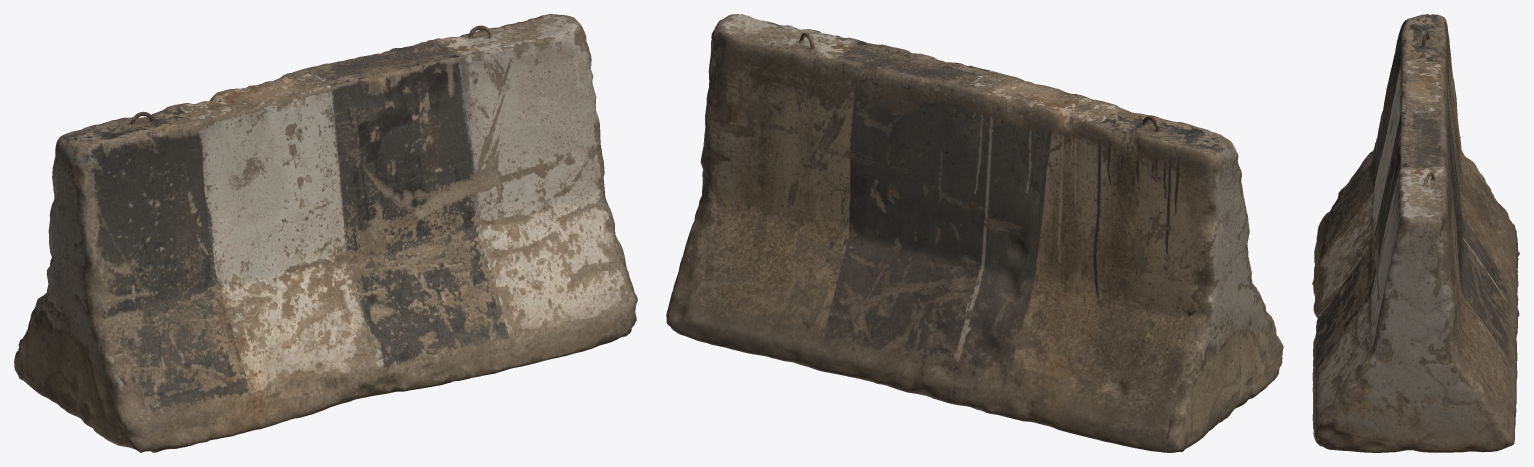
File: concrete_road_barrier_2k.gltf
The picture shows the model from 3 angles, left to right: view 1: azimuth 30°, elevation 25°; view 2: azimuth 150°, elevation 25°; view 3: azimuth 270°, elevation 25°; orthographic projection. The views are drawn at different scales.
Visible parts, largest first — view 1: concrete_road_barrier; view 2: concrete_road_barrier; view 3: concrete_road_barrier.
Part boxes in pixels (x1=…): concrete_road_barrier: x1=14, y1=14, x2=637, y2=452; concrete_road_barrier: x1=666, y1=14, x2=1283, y2=452; concrete_road_barrier: x1=1312, y1=14, x2=1519, y2=452.
Size of the model in its own units: 1.55 by 0.8308 by 0.6387.
1 material, 1 textured.
